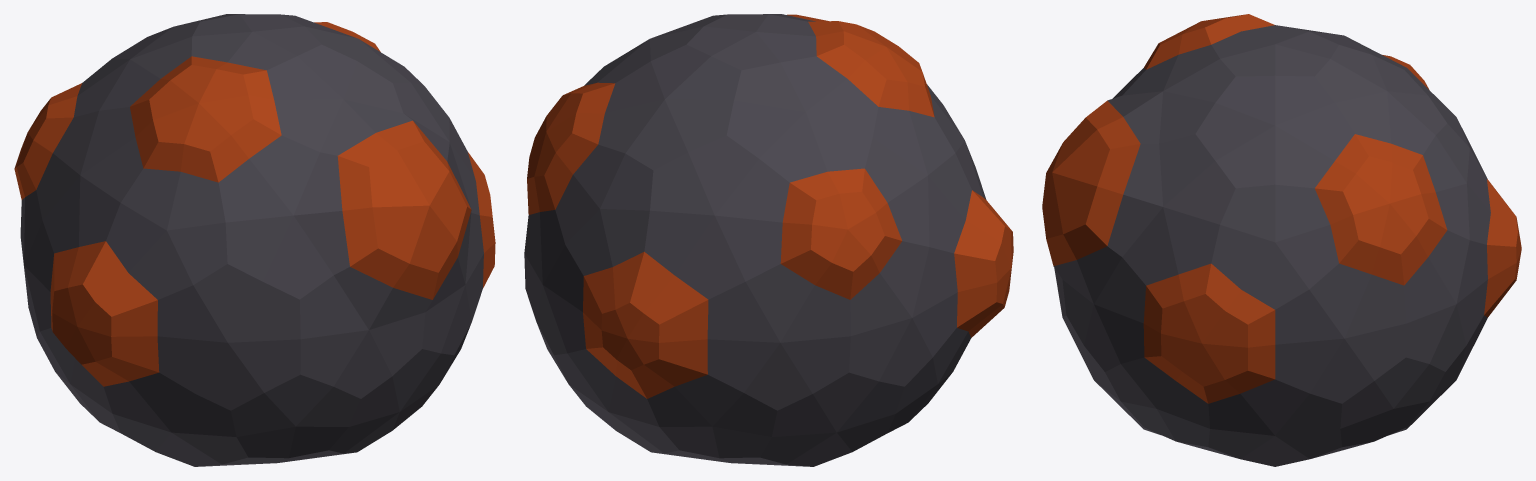
The model's file is Forging_Sides_Iron_Ore.fbx.
3 renders of one model, left to right at view 1: azimuth 30°, elevation 25°; view 2: azimuth 150°, elevation 25°; view 3: azimuth 270°, elevation 25°, orthographic. The views are drawn at different scales.
Parts seen in each view (by area): view 1: Icosphere; view 2: Icosphere; view 3: Icosphere.
Boxes of the visible parts, x1,y1,x2,y2 form: Icosphere: (14,14,495,466); Icosphere: (524,14,1013,466); Icosphere: (1042,14,1521,466).
Size of the model in its own units: 197 by 166 by 198.
Materials: 1 (1 with a texture image).
